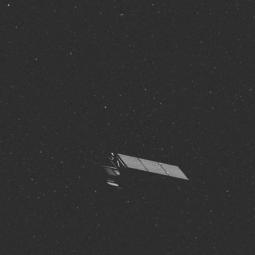earth_observation_sat_1: (96, 142, 191, 198)
